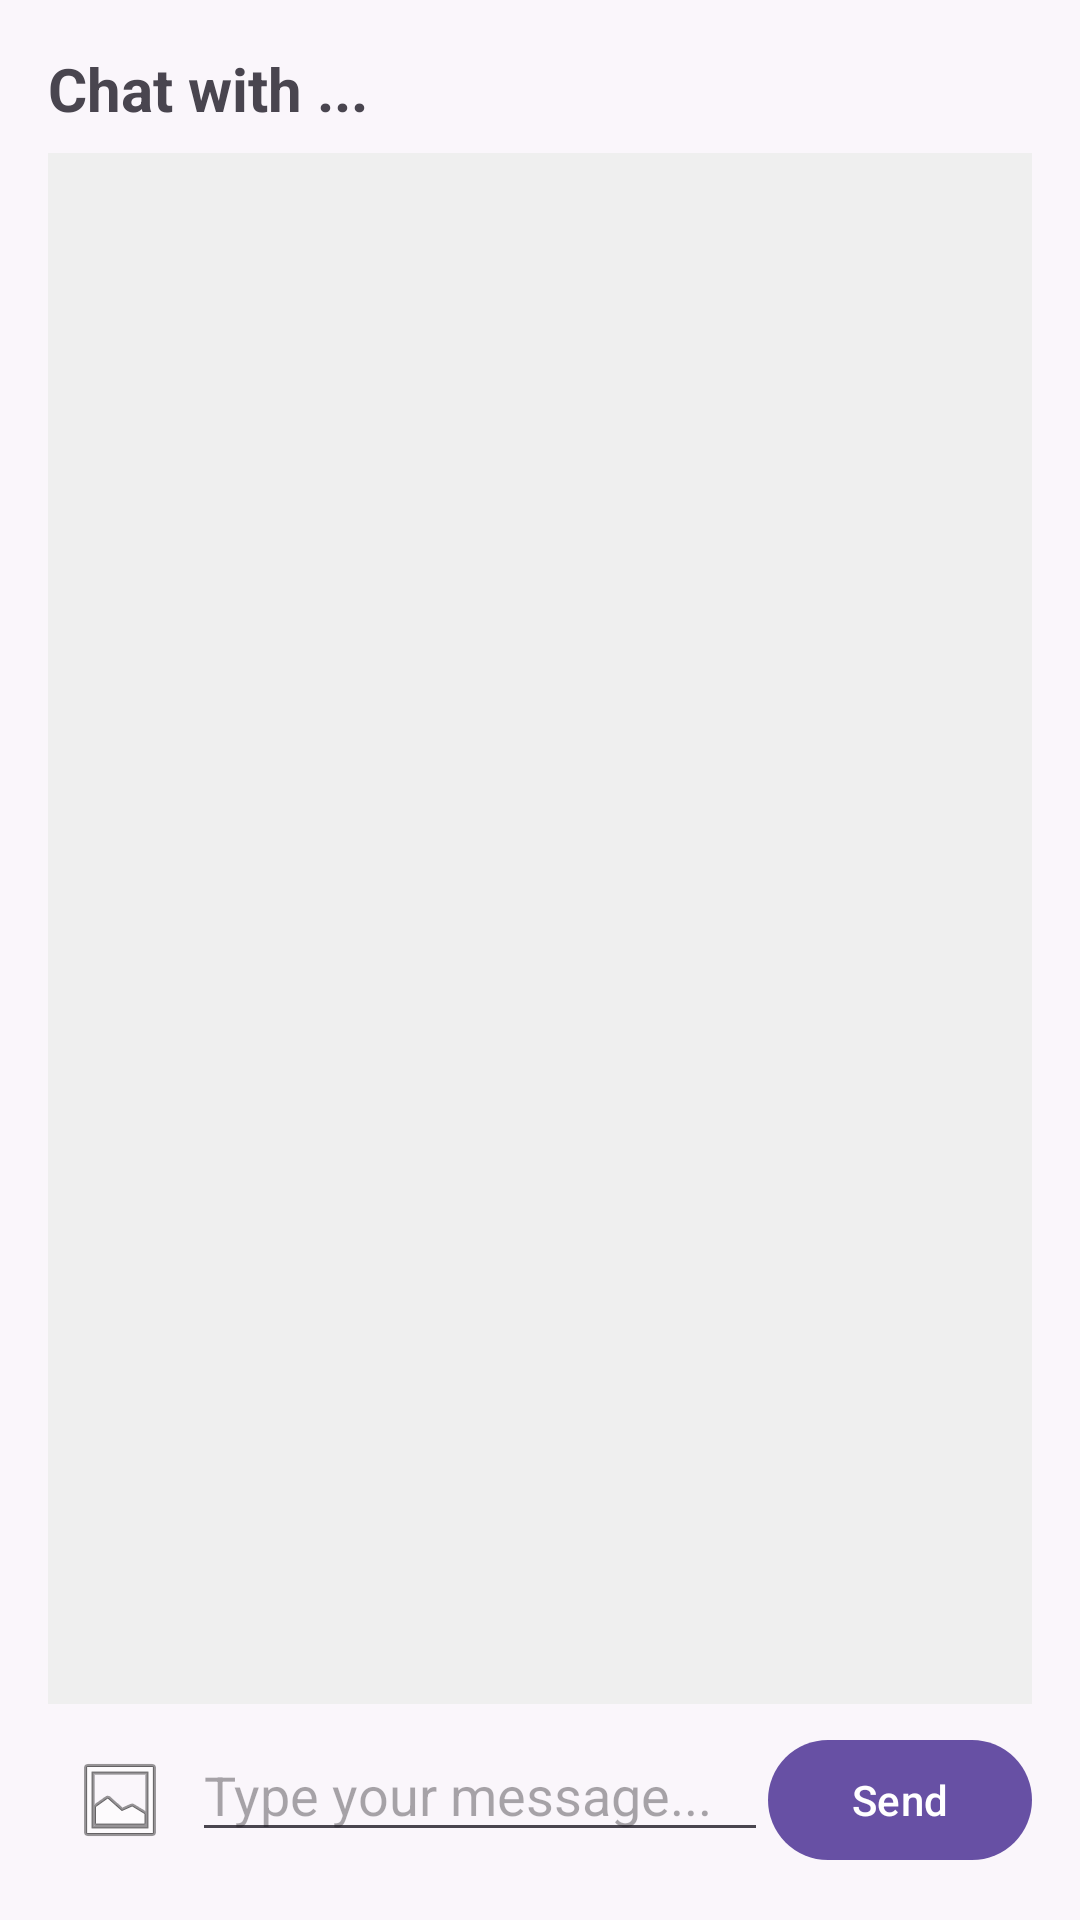

Named icons in this screenshot (1080*1920) and their centers, (x,y):
Send Image: (120,1800)
